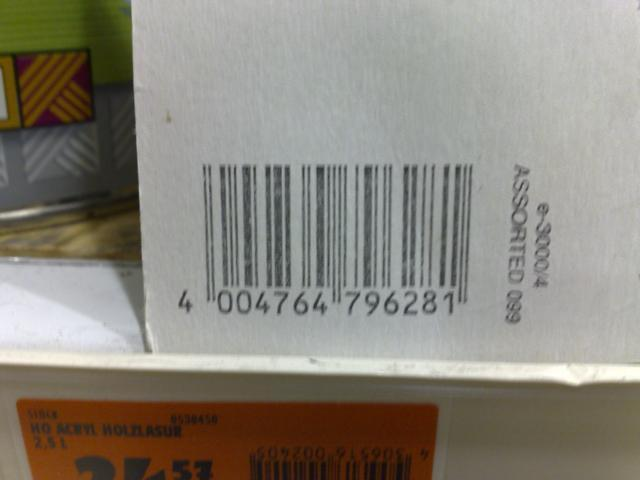Barcode: (168, 156, 471, 331)
